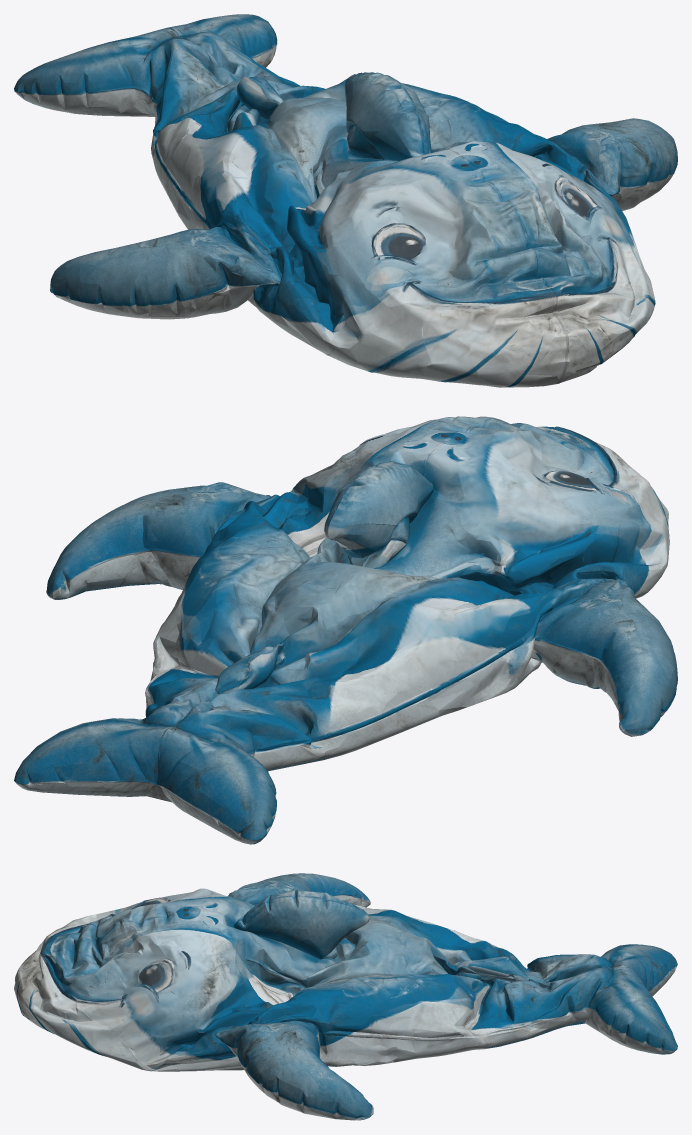
File: balena_gonfiabile_sgonfia_meshy.glb
3 views of the same model, one above another, from view 1: azimuth 30°, elevation 25°; view 2: azimuth 150°, elevation 25°; view 3: azimuth 270°, elevation 25° (orthographic). The views are drawn at different scales.
Parts seen in each view (by area): view 1: Mesh_0; view 2: Mesh_0; view 3: Mesh_0.
Boxes of the visible parts, x1=… form: Mesh_0: x1=14, y1=14, x2=677, y2=387; Mesh_0: x1=14, y1=416, x2=677, y2=844; Mesh_0: x1=14, y1=873, x2=677, y2=1120.
Bounding box in the file's own units: 1.49 × 0.3884 × 1.9.
Materials: 1 (1 with a texture image).
